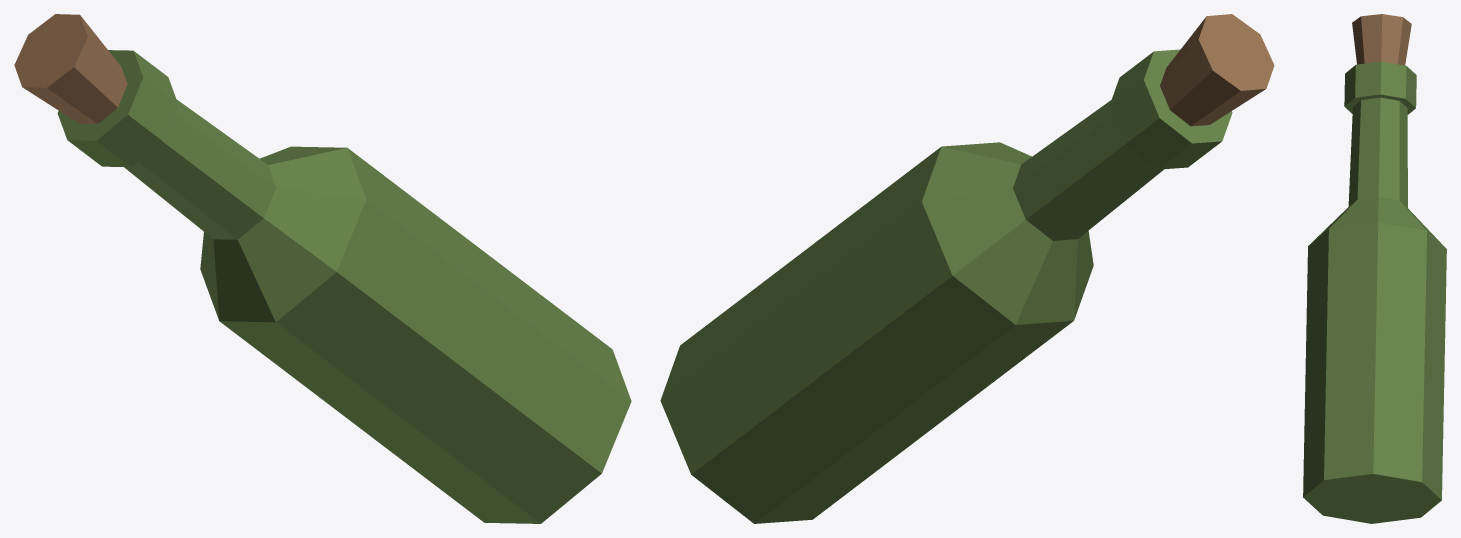
Rendered from Bottle_tex.fbx.
3 views of the same model, side by side, from view 1: azimuth 30°, elevation 25°; view 2: azimuth 150°, elevation 25°; view 3: azimuth 270°, elevation 25° (orthographic). The views are drawn at different scales.
Parts seen in each view (by area): view 1: Bottle_tex; view 2: Bottle_tex; view 3: Bottle_tex.
Boxes of the visible parts, x1,y1,x2,y2 form: Bottle_tex: [14, 14, 631, 523]; Bottle_tex: [660, 14, 1274, 523]; Bottle_tex: [1303, 14, 1446, 523].
Bounding box in the file's own units: 0.479 × 0.4692 × 0.1586.
